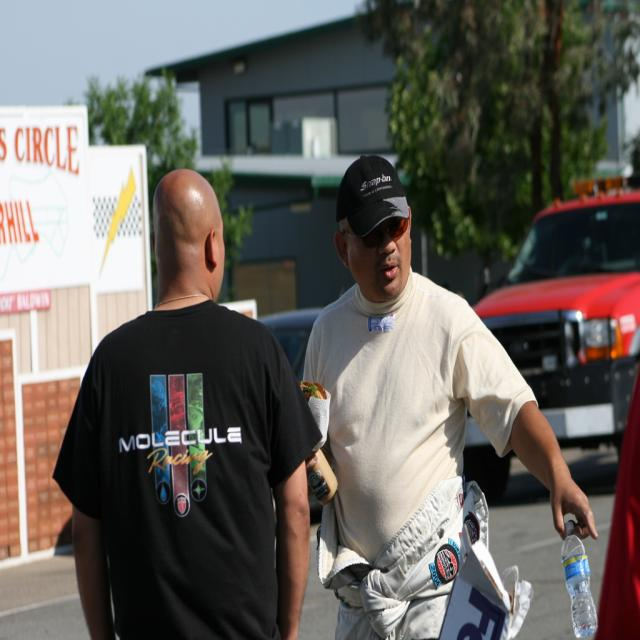car: (479, 179, 639, 439)
